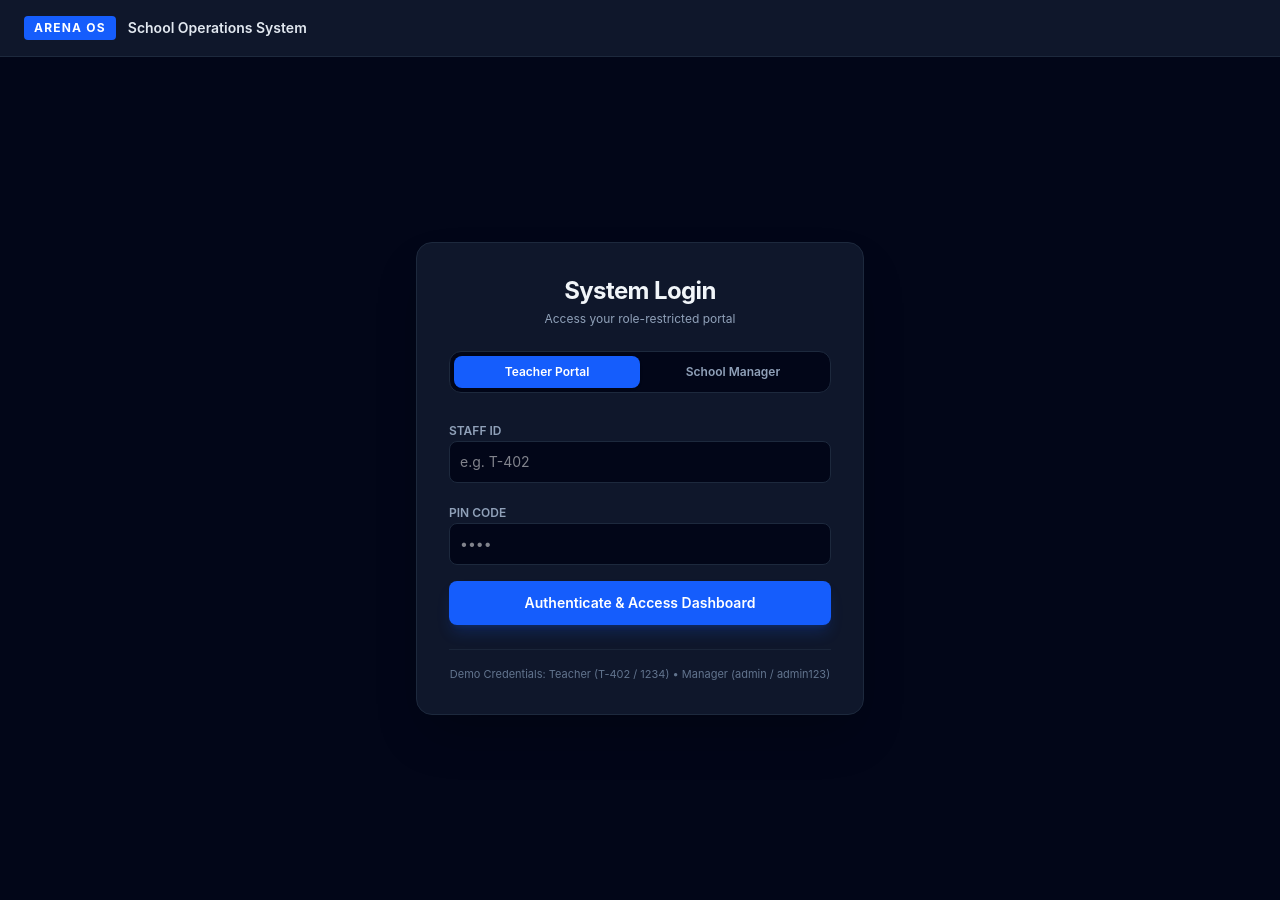
Login › rejects a bad PIN
The width and height of the screenshot is (1280, 900).
Type "T-402" into the field labelled "Staff ID" at (640, 462), box [449,441,831,483]
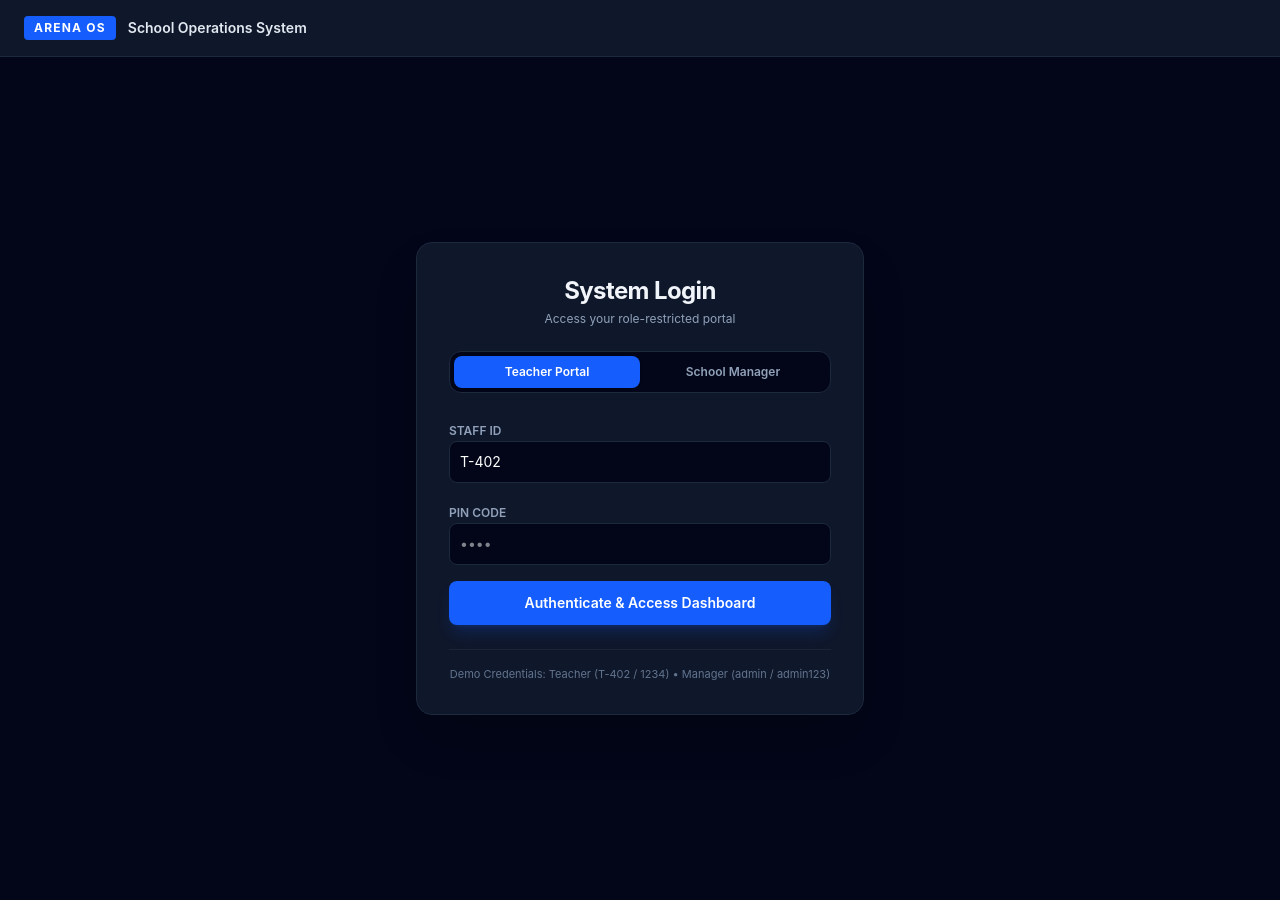
Type "0000" into the password field labelled "PIN Code" at (640, 544), box [449,523,831,565]
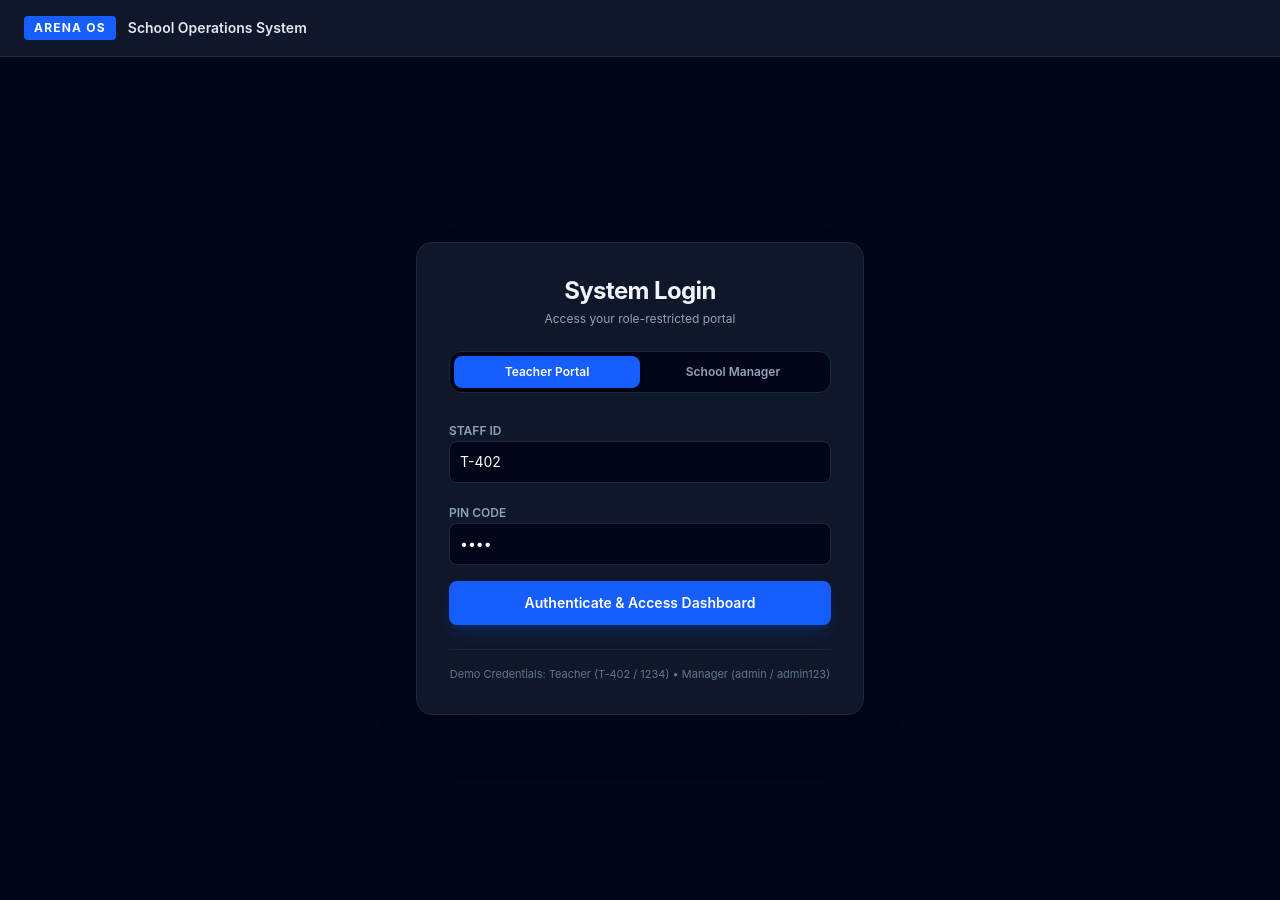
Click the button "Authenticate & Access Dashboard" at (640, 603), box [449,581,831,625]
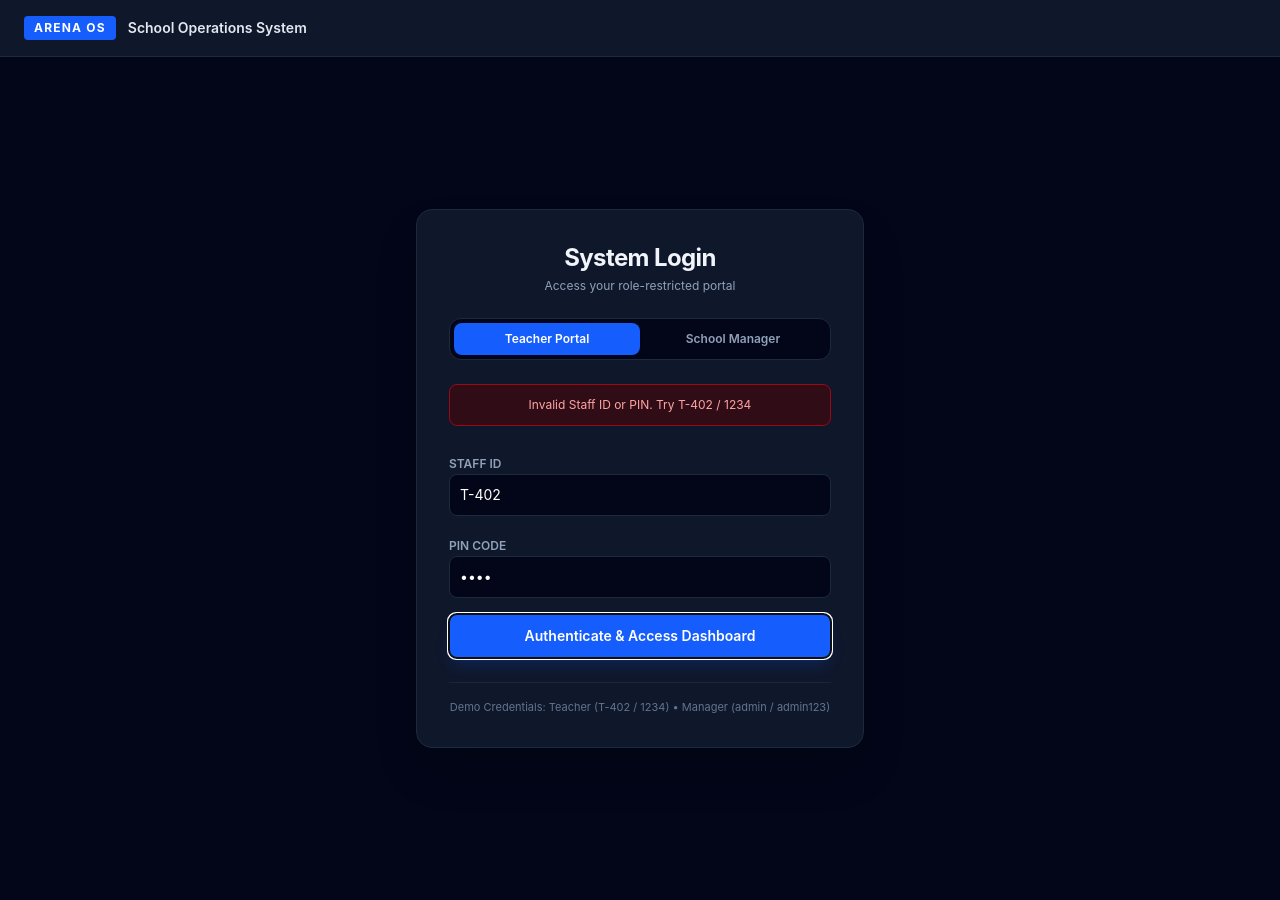
Now the text "Invalid Staff ID or PIN. Try T-402 / 1234" is shown, box [449,384,831,426]
